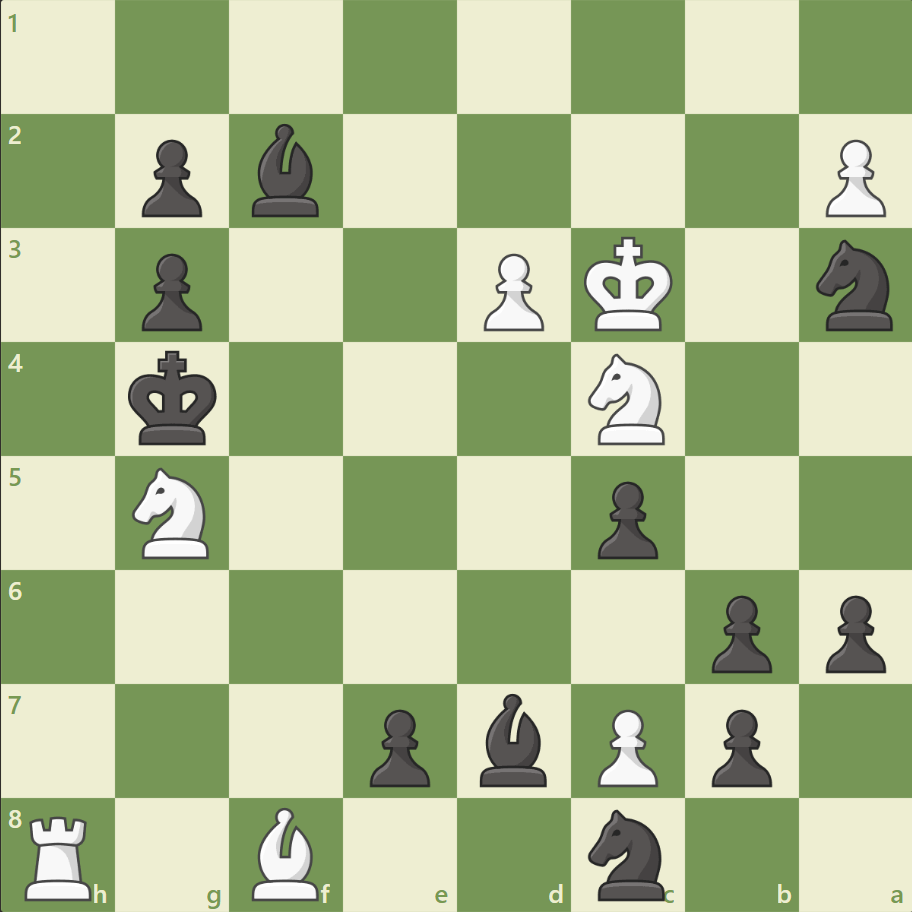B: (244, 801, 328, 904)
K: (579, 231, 679, 339)
N: (124, 461, 222, 564), (579, 348, 676, 450)
P: (474, 246, 549, 337), (588, 700, 662, 791), (815, 132, 889, 223)
R: (19, 806, 102, 904)
b: (471, 687, 555, 790), (244, 120, 328, 222)
k: (124, 344, 224, 452)
n: (806, 234, 903, 337), (579, 802, 676, 904)
p: (701, 700, 776, 791), (701, 586, 776, 677), (133, 246, 208, 337), (133, 132, 208, 223), (361, 700, 435, 791), (815, 586, 889, 677), (588, 473, 662, 564)
